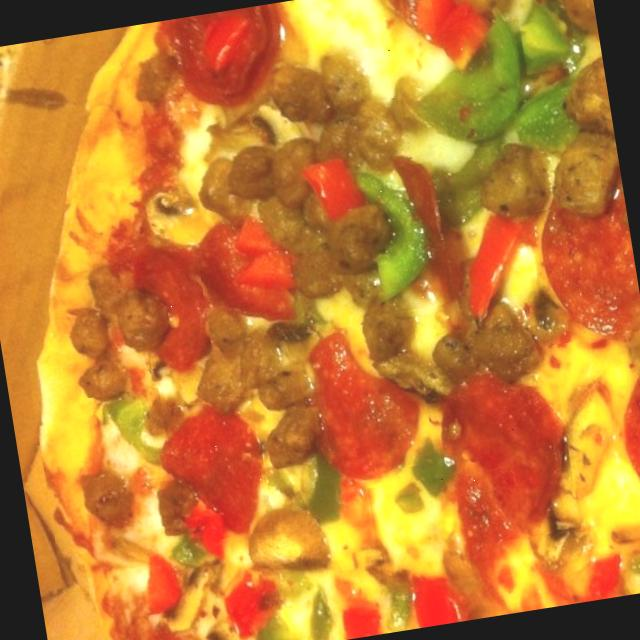Bell Pepper: (391, 19, 536, 159), (353, 162, 453, 316), (86, 388, 172, 490), (504, 68, 580, 161)
cheese: (294, 0, 444, 111), (367, 474, 475, 592)
pepperoni: (432, 382, 580, 548), (290, 317, 435, 482), (150, 396, 274, 547), (523, 198, 640, 346), (126, 256, 213, 370)
pizza: (40, 0, 640, 640)
